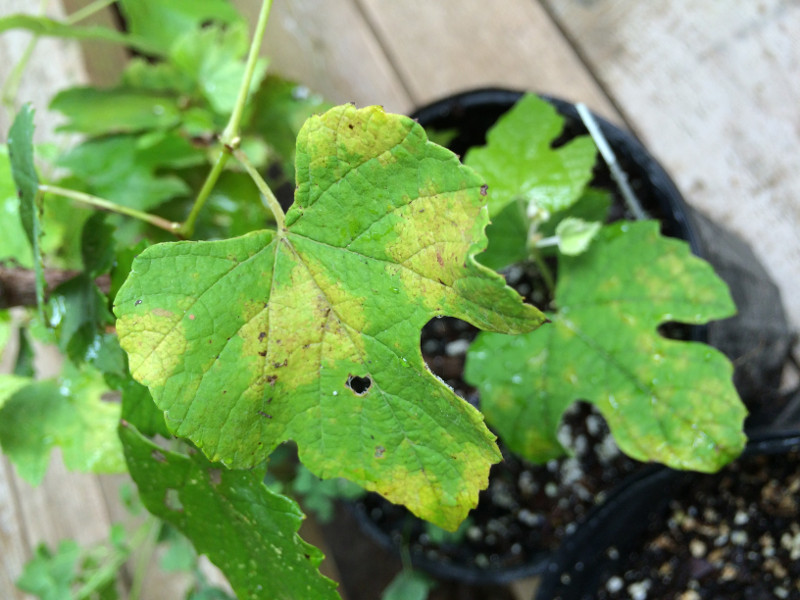downy: (242, 259, 384, 401), (388, 187, 486, 285), (115, 305, 198, 388), (341, 112, 413, 184), (666, 392, 734, 460), (378, 452, 437, 511), (629, 259, 686, 316), (306, 418, 362, 474), (605, 393, 658, 446), (298, 123, 339, 164), (456, 448, 486, 478)
